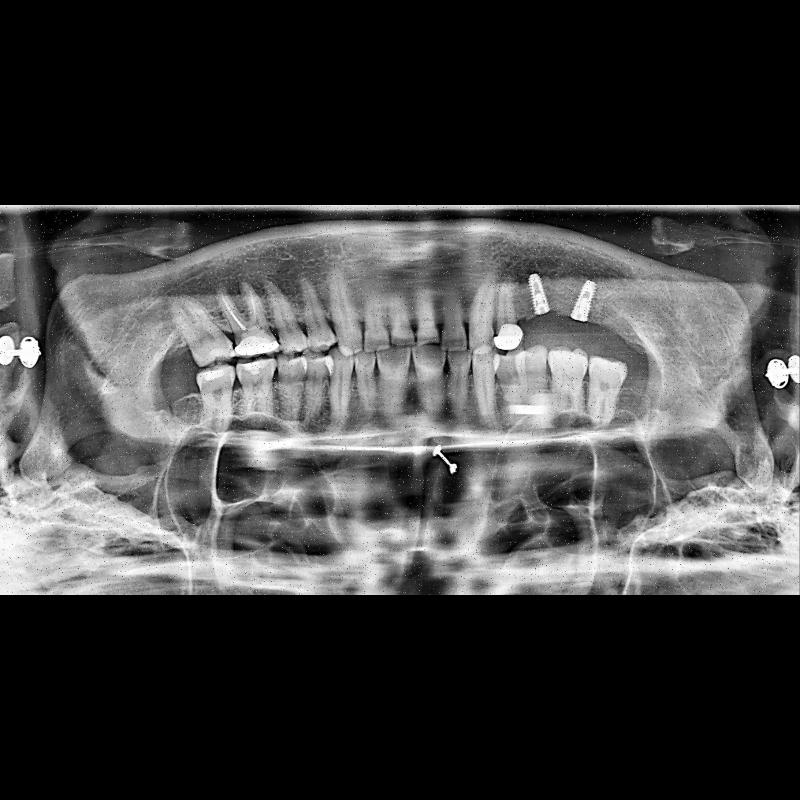osstem: (518, 268, 554, 320), (568, 276, 600, 320)
